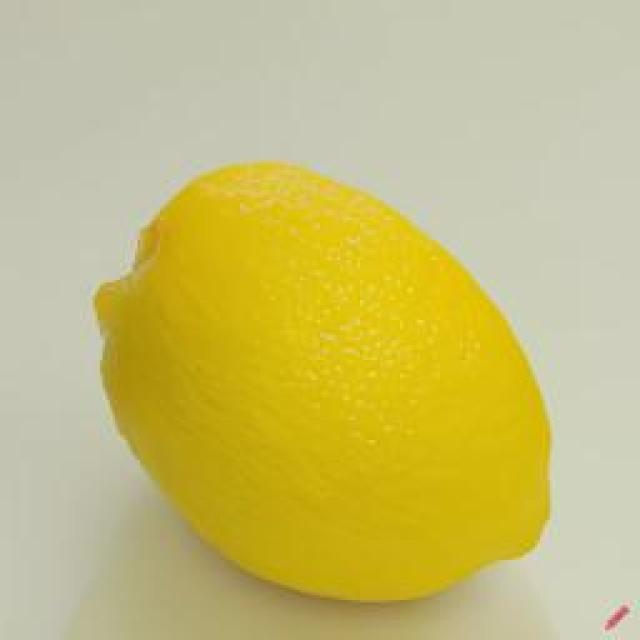Lemon: (92, 162, 553, 606)
